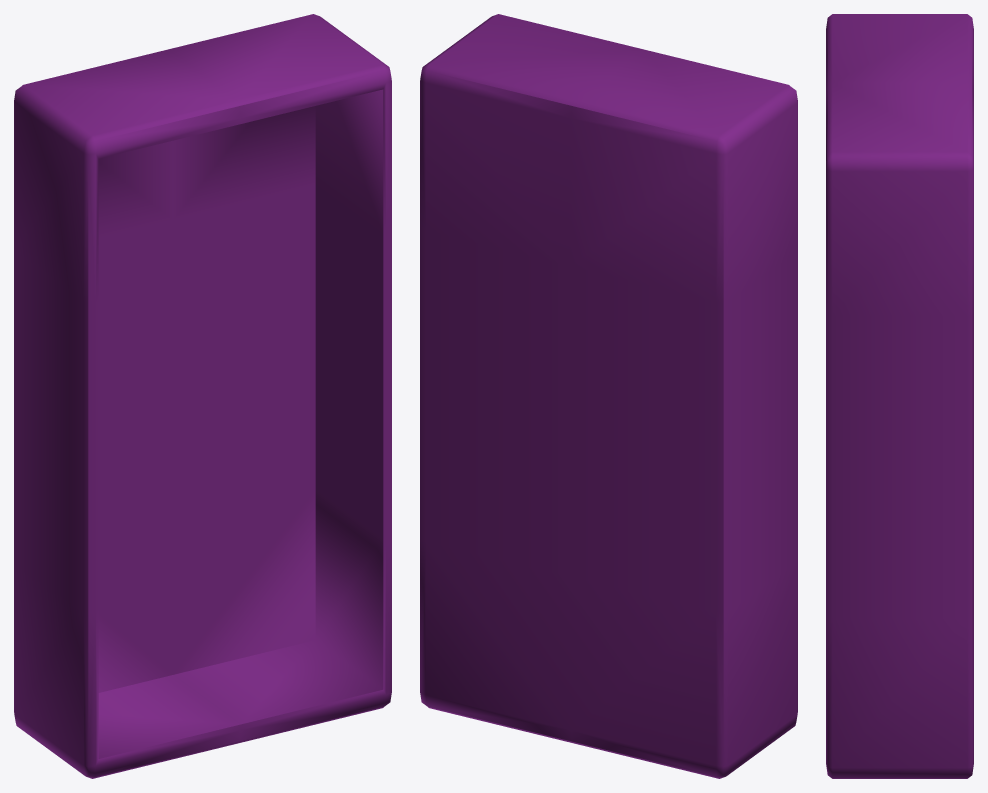
File: StorageCloset_TX.fbx
The picture shows the model from 3 angles, left to right: view 1: azimuth 30°, elevation 25°; view 2: azimuth 150°, elevation 25°; view 3: azimuth 270°, elevation 25°; orthographic projection. The views are drawn at different scales.
Parts seen in each view (by area): view 1: StorageCloset; view 2: StorageCloset; view 3: StorageCloset.
Boxes of the visible parts, box(x1,y1,x2,y2) form: StorageCloset: box(14, 14, 391, 778); StorageCloset: box(420, 14, 797, 778); StorageCloset: box(826, 14, 973, 778).
Bounding box in the file's own units: 20.54 × 41.01 × 8.77.
